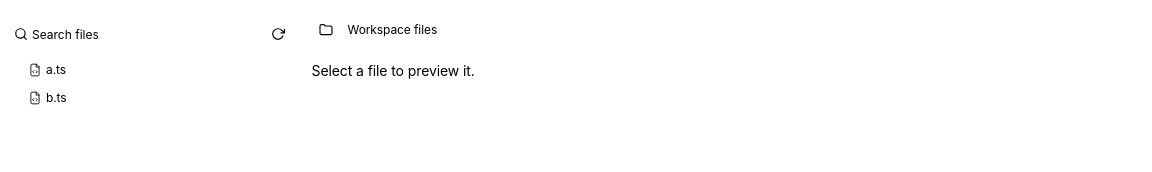
Test case: workspace source preview limits › shows actionable line limit feedback while preserving file actions and the usable tree
Click the text with class "workspace-files__name" showing "a.ts". click: [56, 69]
box: 46,62 -> 66,77
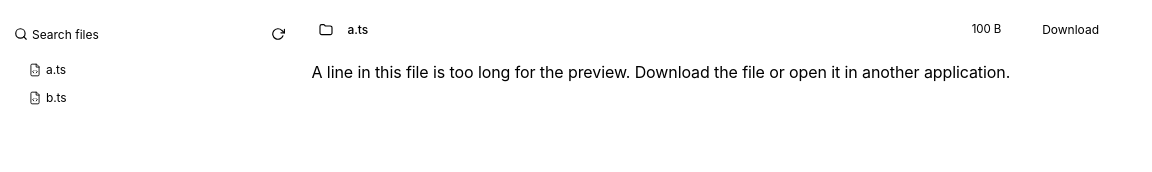
Now the message shows "A line in this file is too long for the preview", box 312,62 -> 1010,82
Now the text "Download the file or open it in another application" is shown, box 312,62 -> 1010,82
Now the element with class "workspace-resource-actions" is shown, box 1009,16 -> 1140,44
Click the text with class "workspace-files__name" showing "b.ts". click: [56, 97]
box: 46,90 -> 67,105
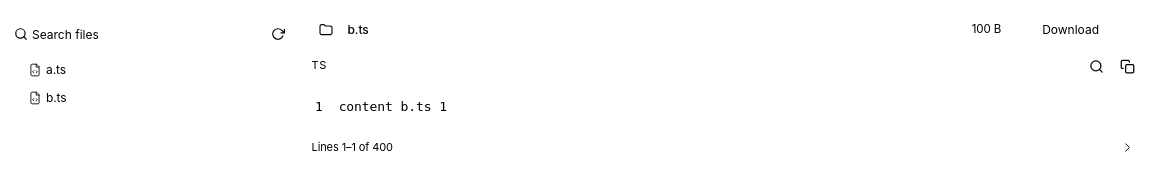
Now the message is gone
Now the text "content b.ts" is shown, box 339,96 -> 447,117
